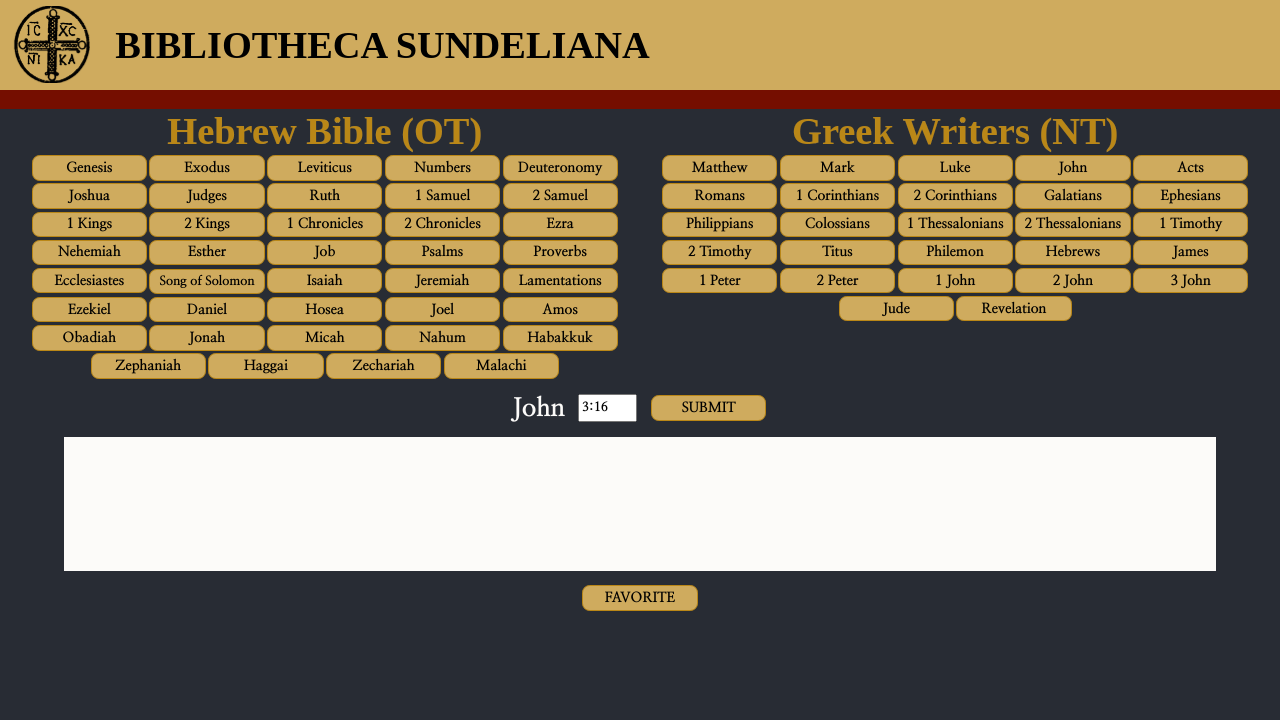
it: filter page › Should change verse to what is typed in
The width and height of the screenshot is (1280, 720).
Replace the text in the field with "2:9" at (608, 408), box [578,394,637,422]
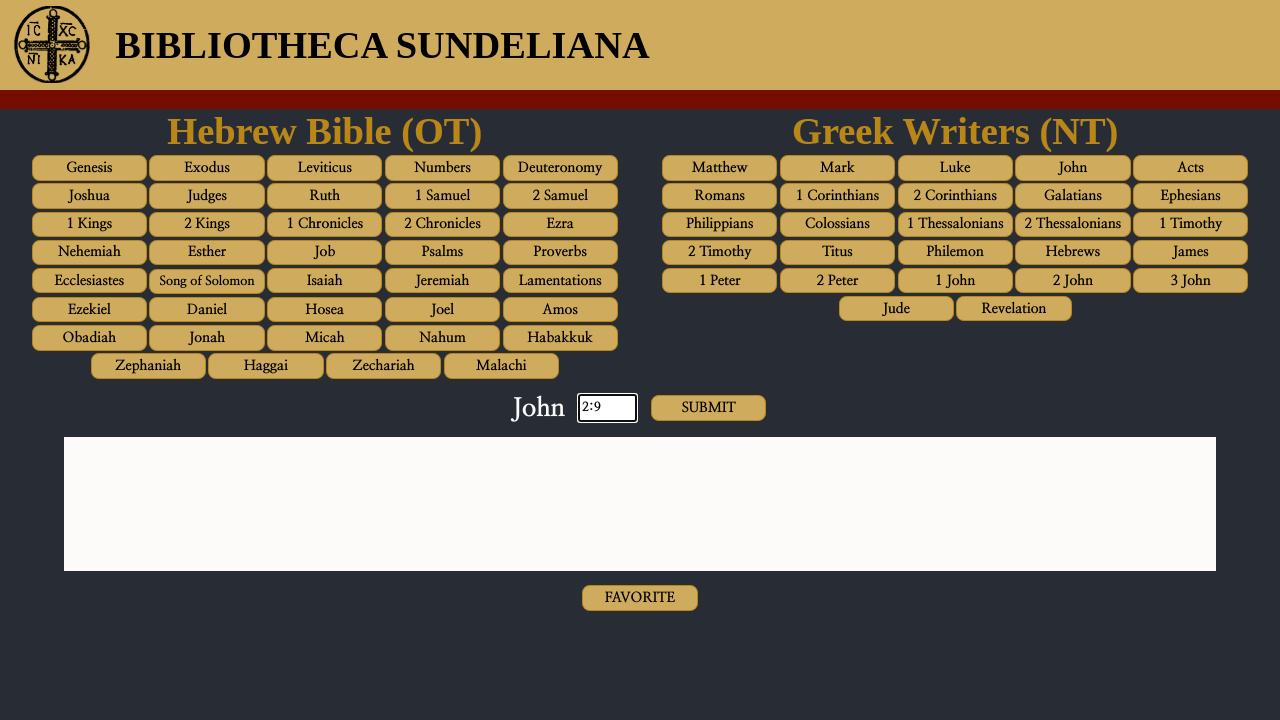
Expected: the field holds "2:9", [578,394,637,422]
